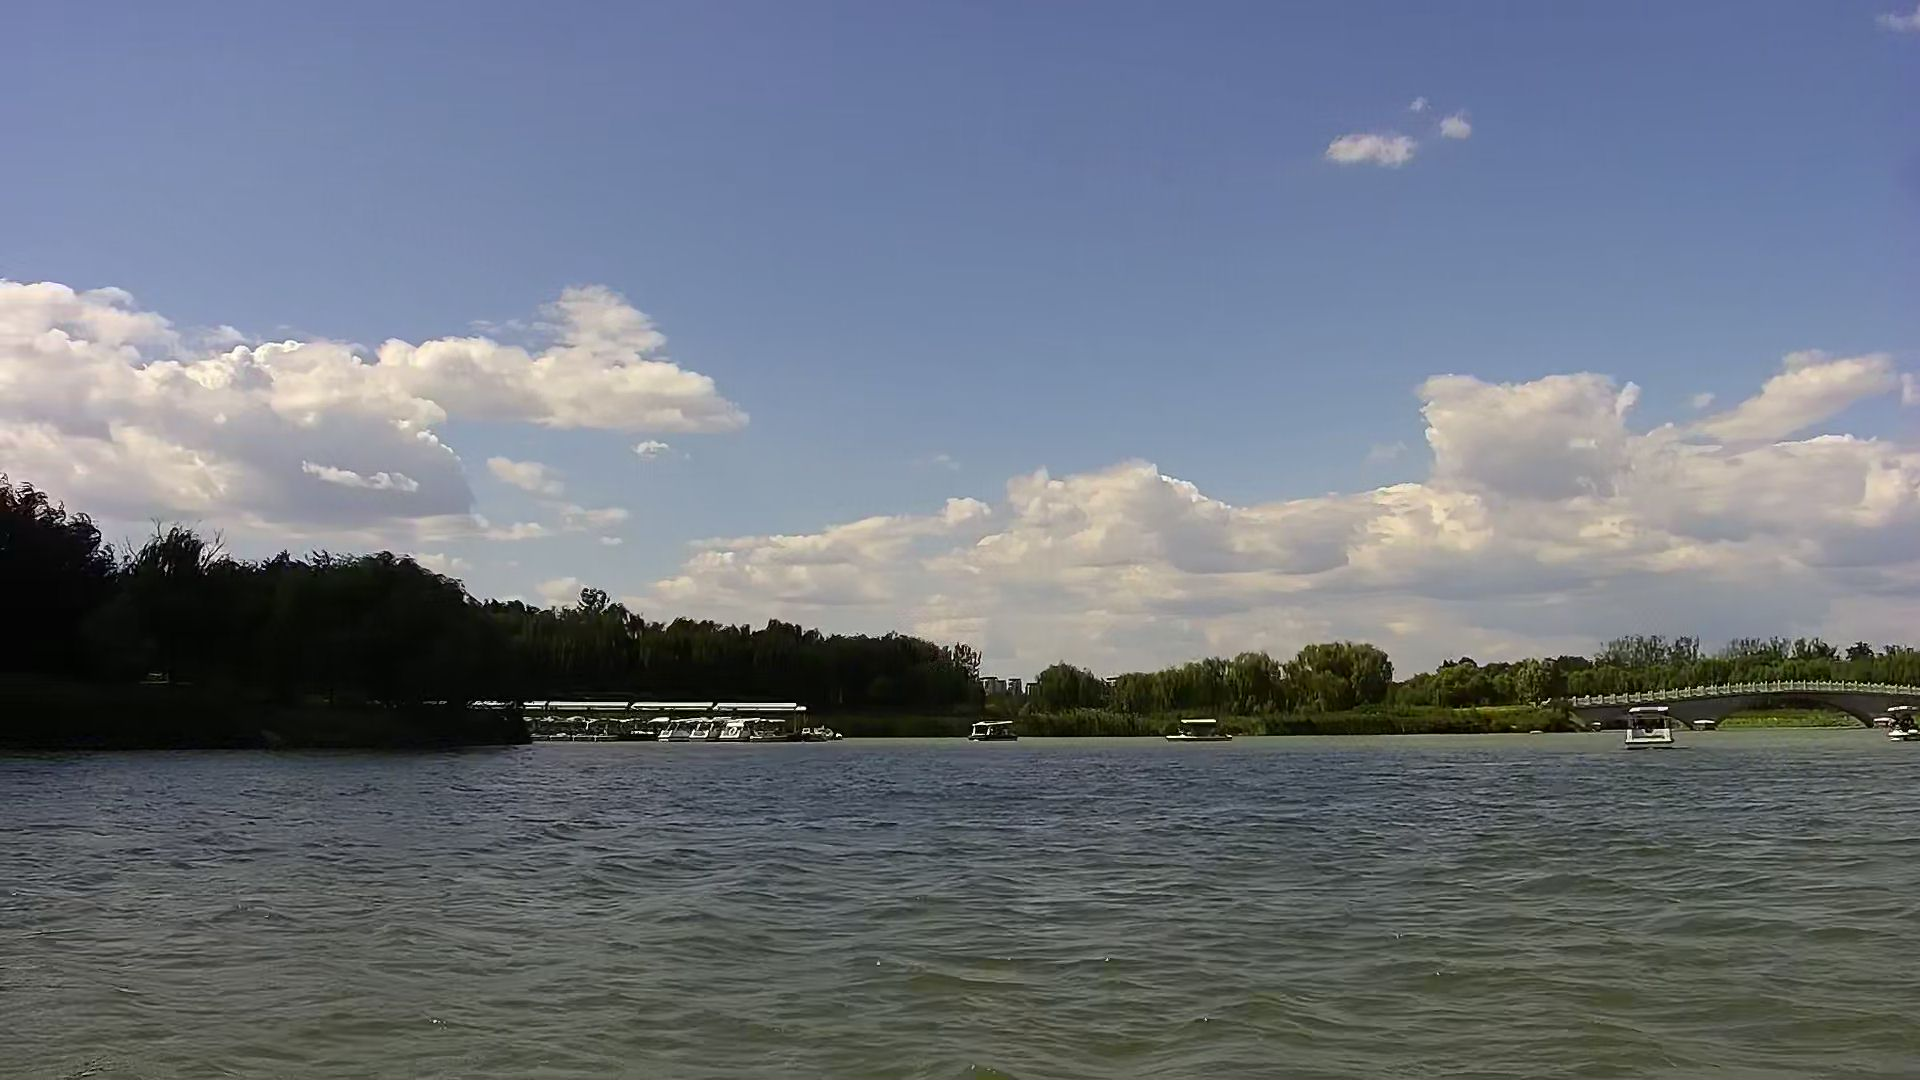boat: (1160, 712, 1241, 742), (1626, 705, 1676, 746), (964, 715, 1019, 744), (1882, 704, 1920, 742)
bridge: (1557, 673, 1919, 735)
harbor: (510, 694, 856, 752)
